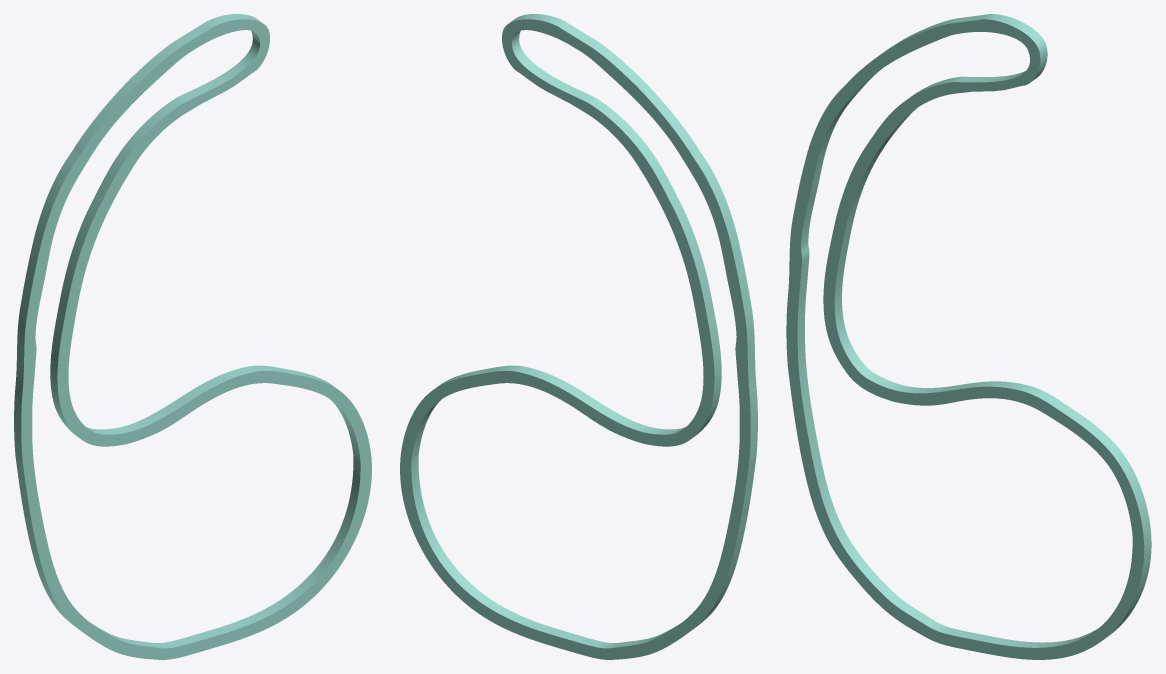
File: Green_Border.gltf
3 renders of one model, left to right at view 1: azimuth 30°, elevation 25°; view 2: azimuth 150°, elevation 25°; view 3: azimuth 330°, elevation 25°, orthographic.
Size of the model in its own units: 0.5648 by 0.9608 by 0.02.
